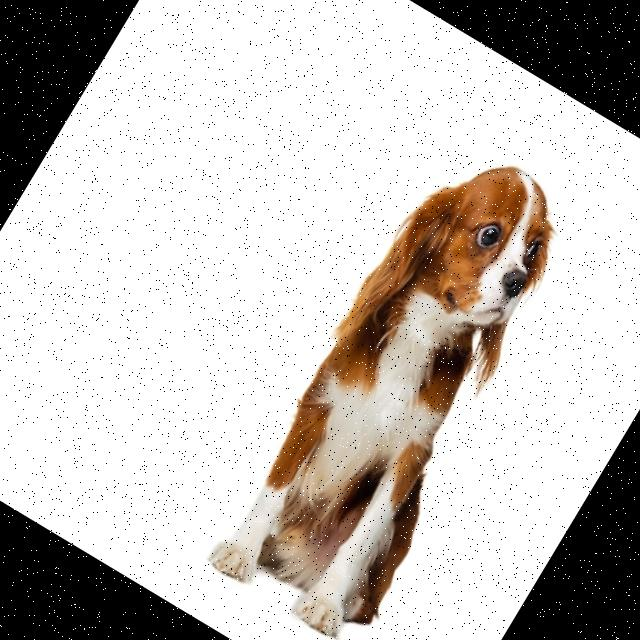Dog: (196, 129, 613, 640)
